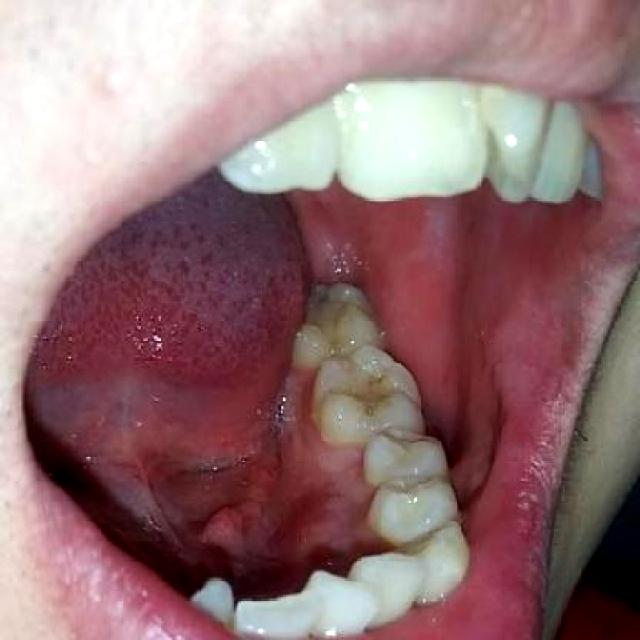Plaque: (322, 370, 403, 423)
